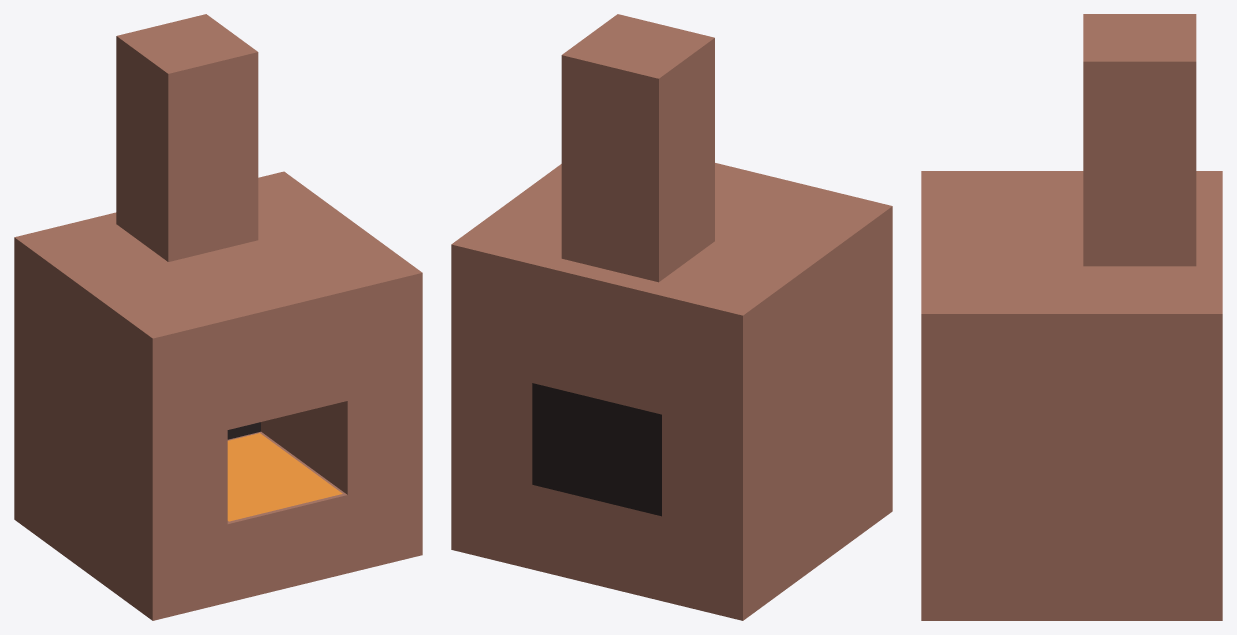
The model's file is furnace.fbx.
3 views of the same model, side by side, from view 1: azimuth 30°, elevation 25°; view 2: azimuth 150°, elevation 25°; view 3: azimuth 270°, elevation 25° (orthographic). The views are drawn at different scales.
Visible parts, largest first — view 1: furnace; view 2: furnace; view 3: furnace.
Part boxes in pixels (x1,y1,x2,y2): furnace: (14, 14, 422, 620); furnace: (451, 14, 892, 620); furnace: (921, 14, 1222, 620).
Bounding box in the file's own units: 0.9 × 1.5 × 0.8.
